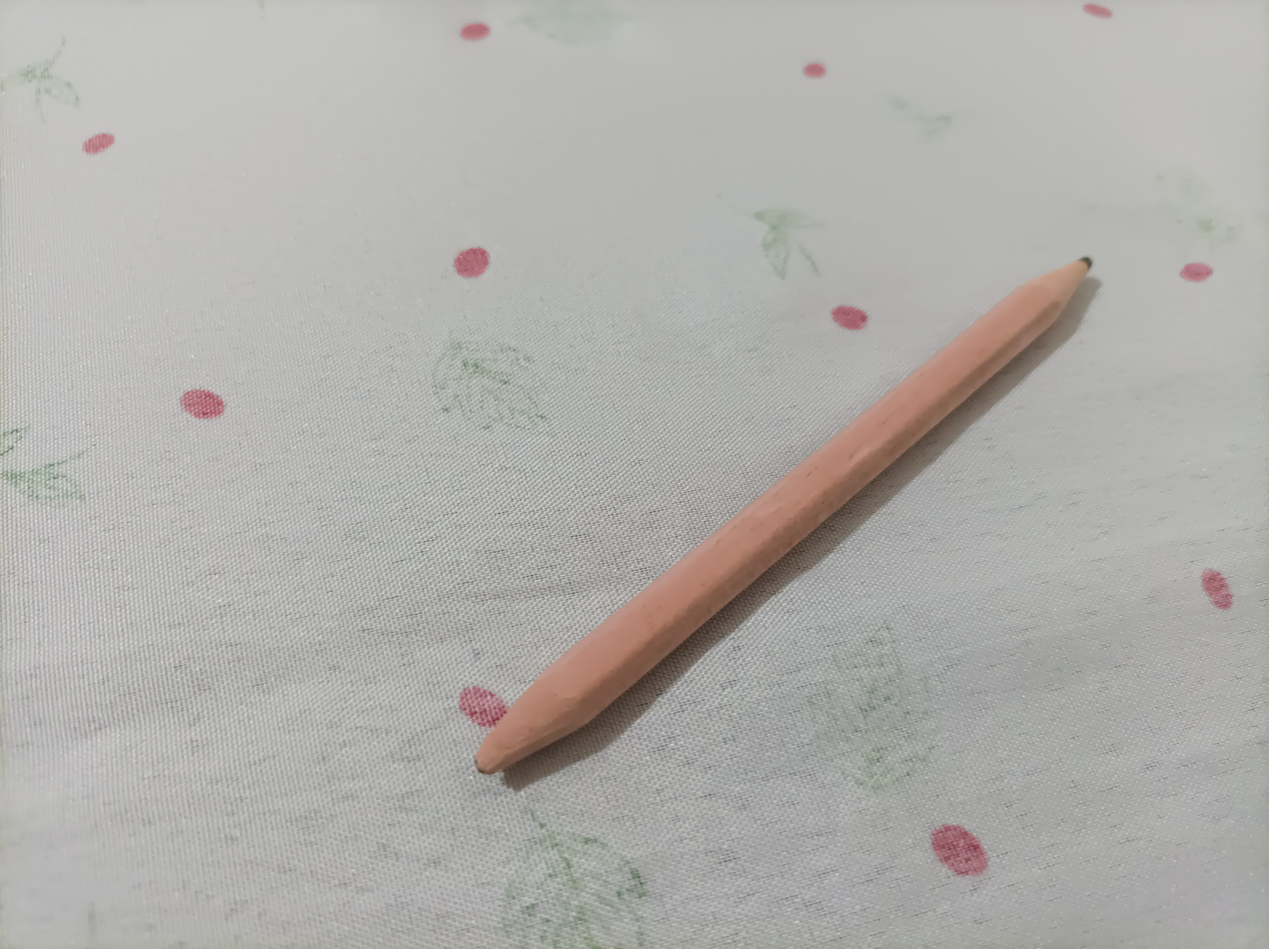plastic: (483, 254, 1082, 780)
